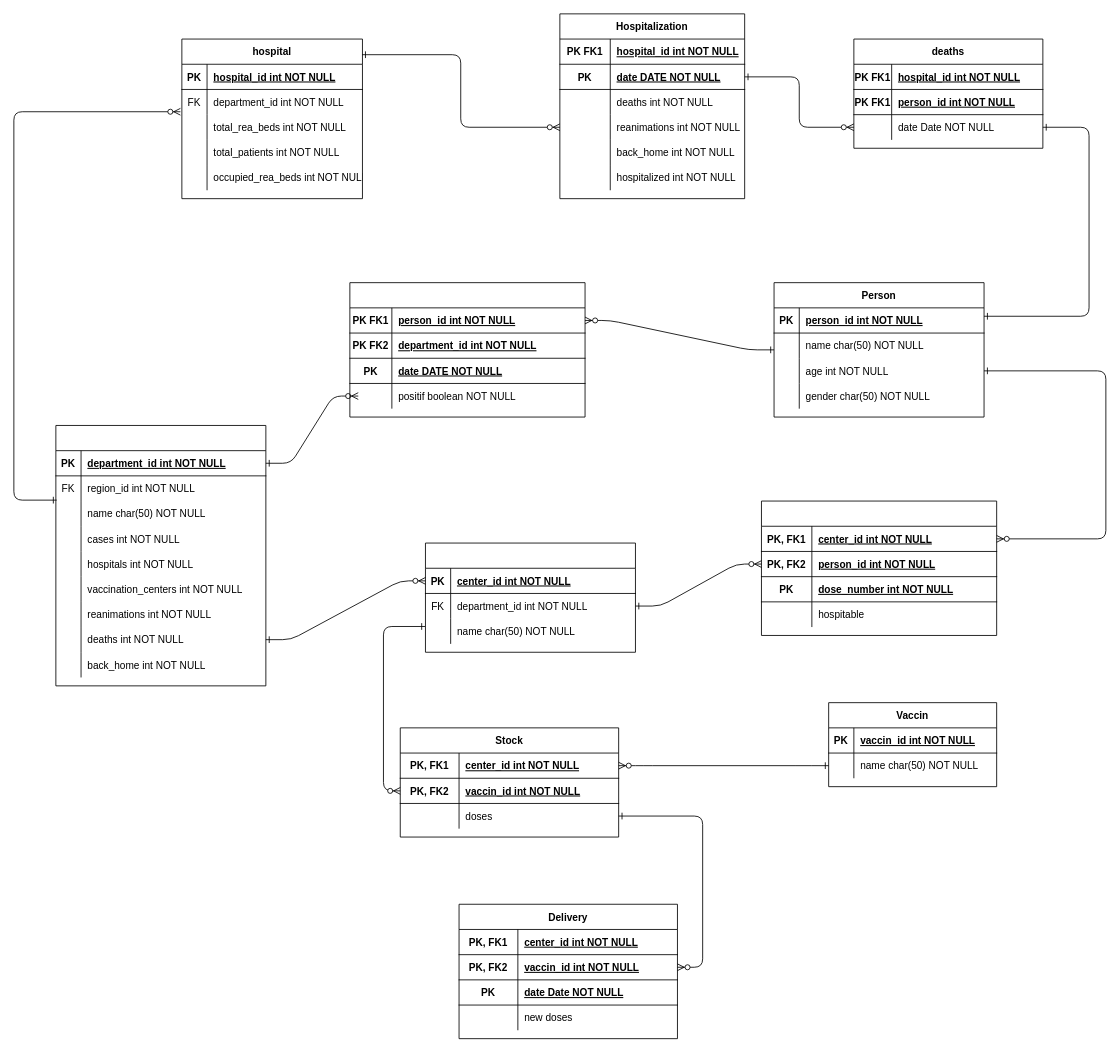
Some shapes in this 1120 by 1053 pixel diagram are drawn without their labels. The shapes that lost their labels are listed below. From the top down, each one's box as (x1, y1, x2, y2) in pixels, then its label:
(349, 282, 585, 417): Test
(55, 425, 266, 686): Departement
(761, 500, 997, 635): Vaccination
(425, 542, 635, 652): VaccinationCenter
